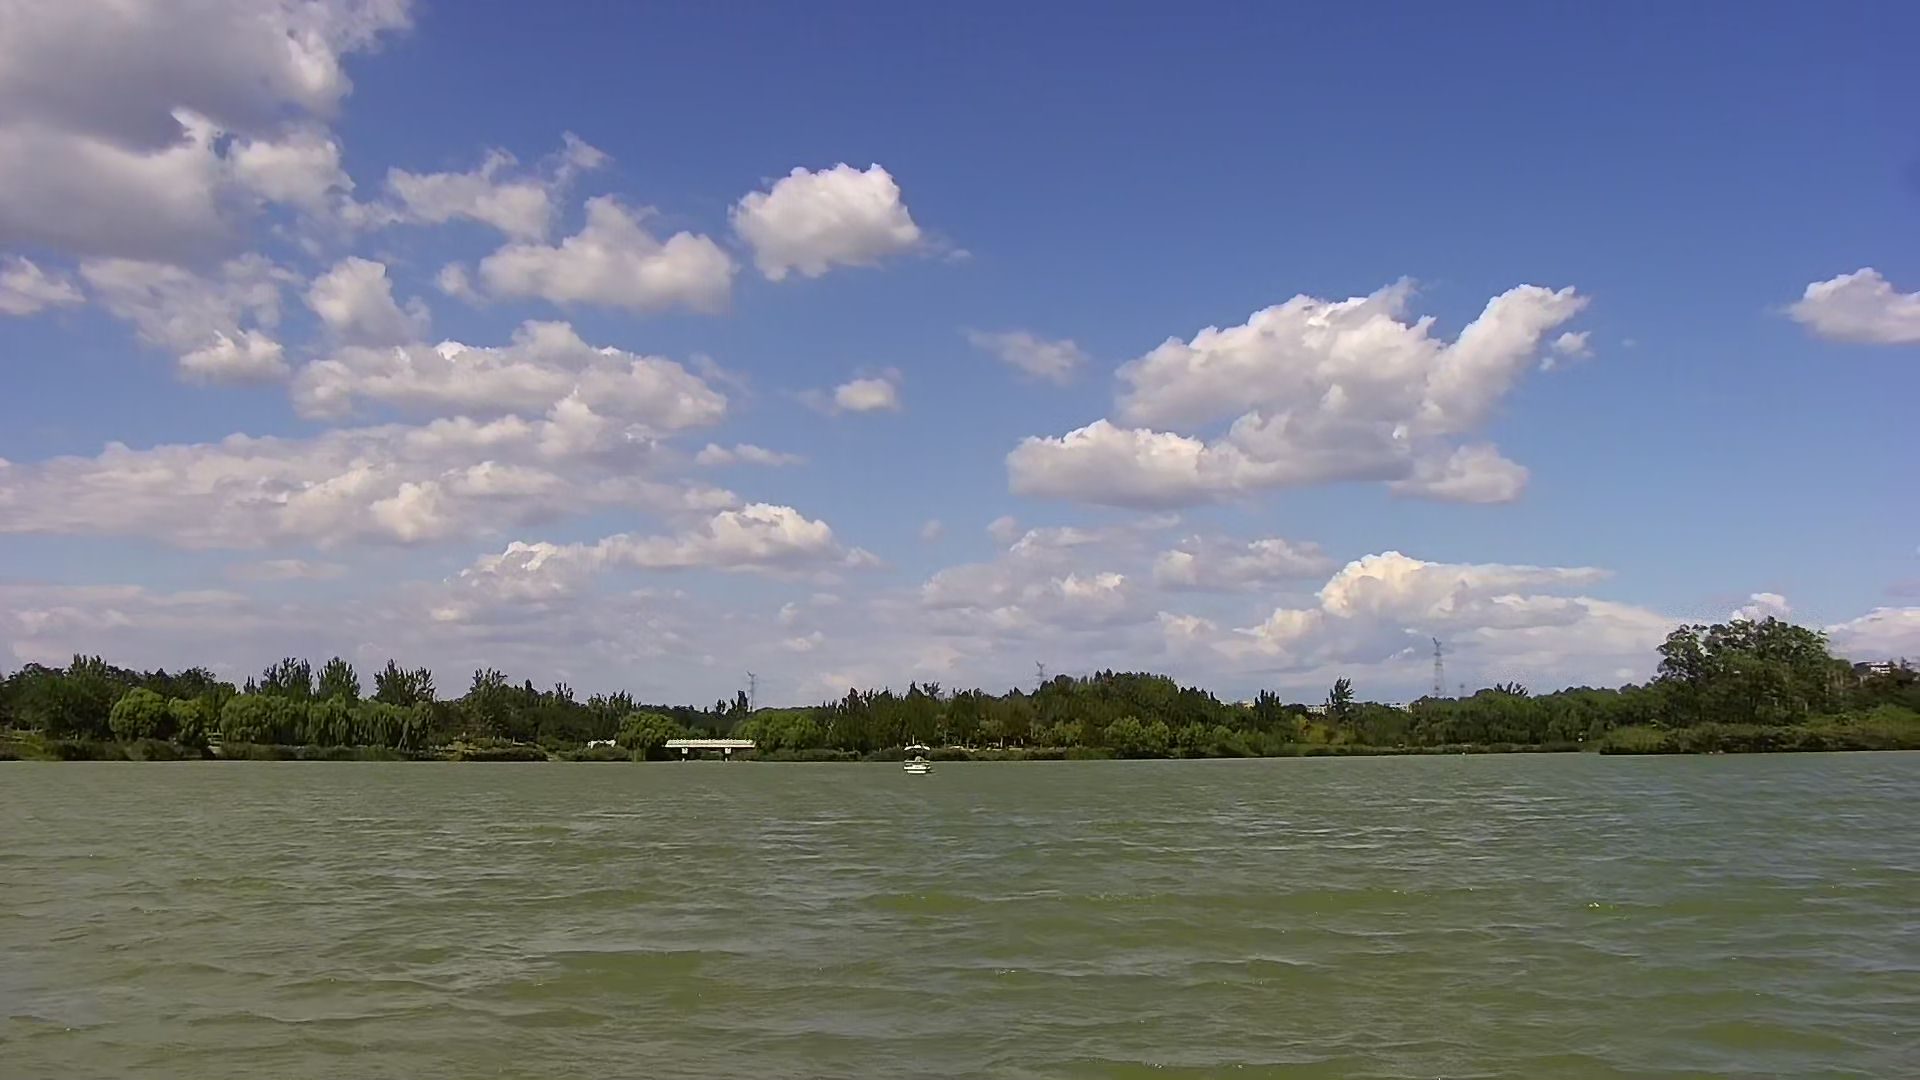boat: (893, 732, 947, 786)
bridge: (659, 728, 771, 771)
